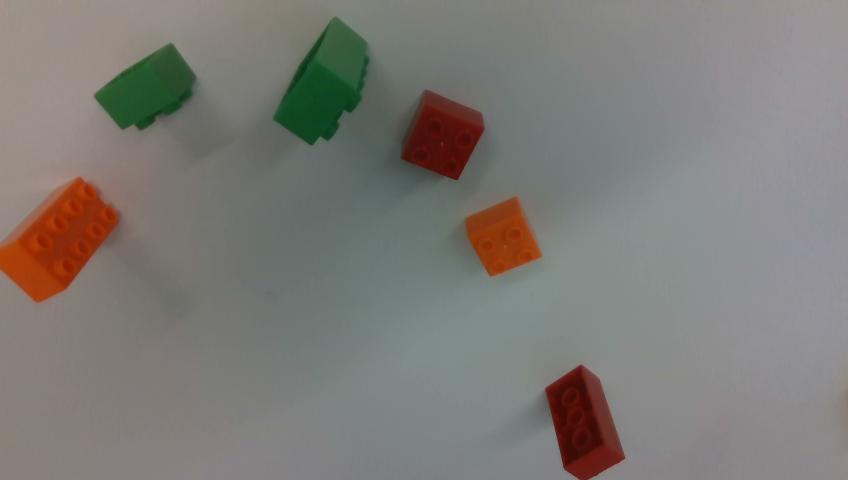2x2_green: (94, 43, 196, 129)
2x2_orange: (466, 196, 541, 275)
2x2_red: (402, 91, 484, 179)
4x2_green: (274, 18, 369, 144)
4x2_orange: (0, 177, 119, 302)
4x2_red: (547, 366, 624, 479)
